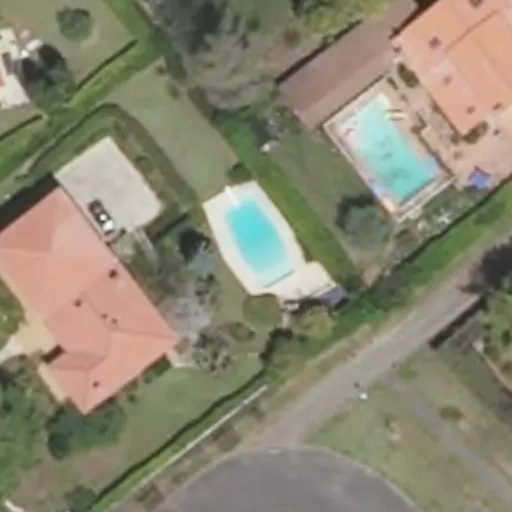pool: (209, 211, 302, 271)
